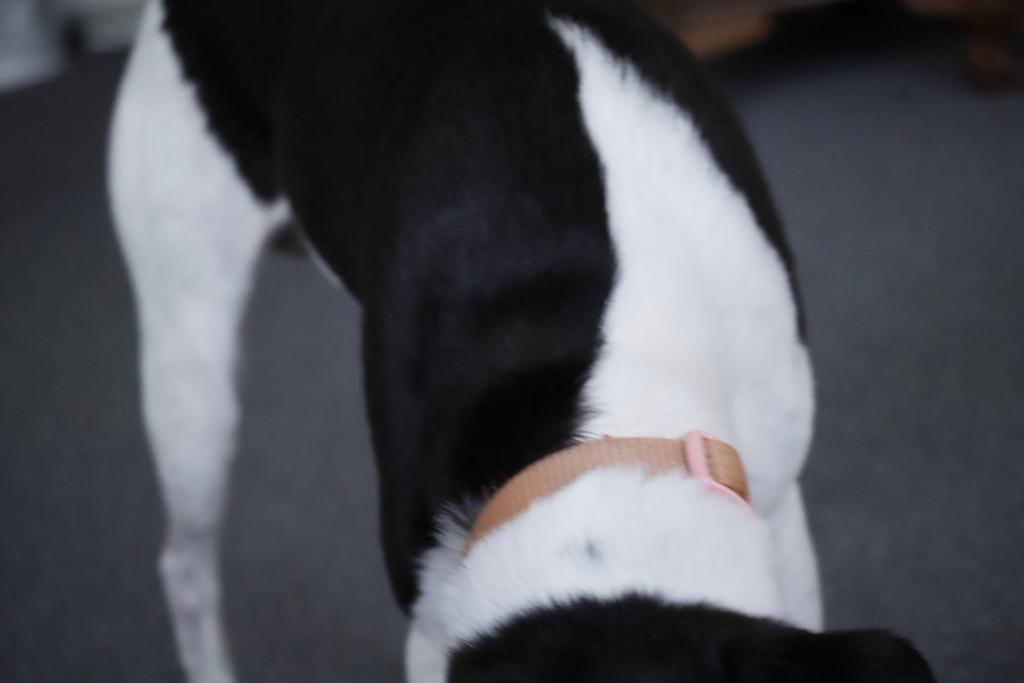Dog: (96, 0, 954, 683)
